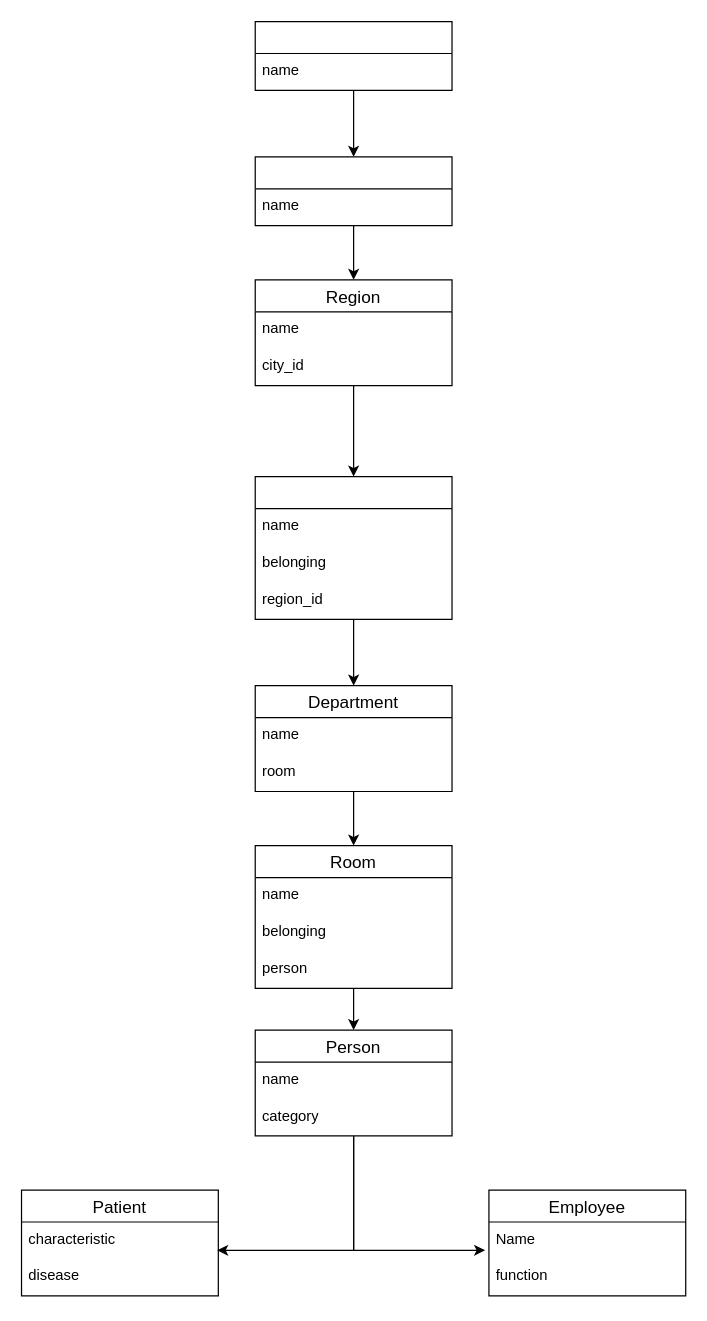
The diagram is 707 pixels wide and 1321 high, and some of its shapes have lost their labels. Each missing label, with the box of its shape:
City: (254, 156, 452, 226)
country: (254, 20, 452, 90)
Hospital: (254, 475, 452, 619)
